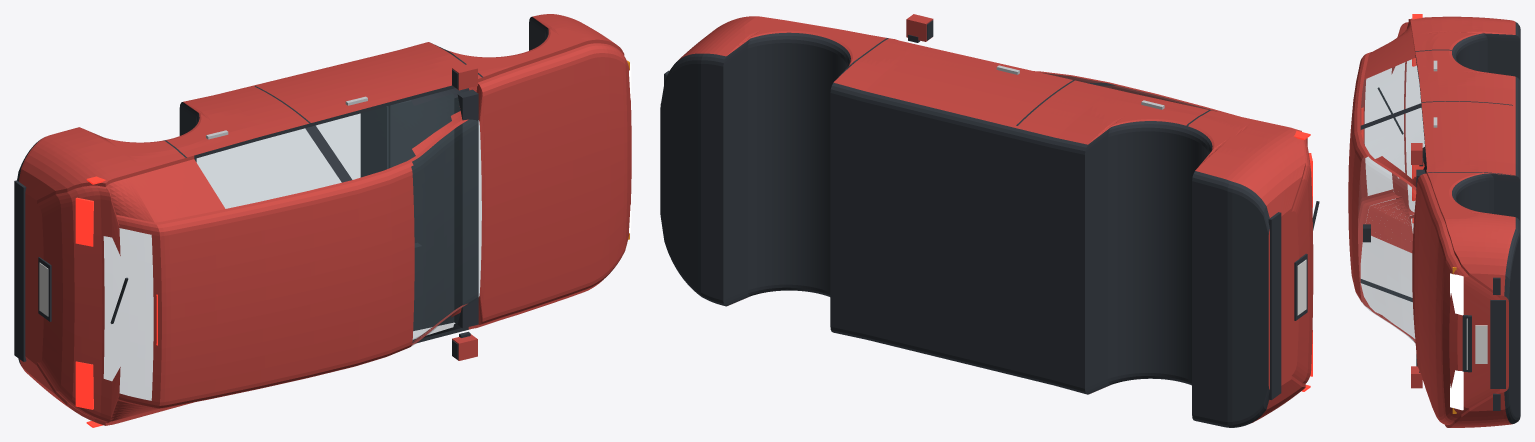
The model's file is vehicle.glb.
3 renders of one model, left to right at view 1: azimuth 30°, elevation 25°; view 2: azimuth 150°, elevation 25°; view 3: azimuth 270°, elevation 25°, orthographic. The views are drawn at different scales.
Parts seen in each view (by area): view 1: body_paint_visual, body_glass_visual, dashboard_visual, firewall_visual, body_black_visual, rear_lower_visual, dashboard_lower_visual, tail_light_left_visual, tail_light_right_visual; view 2: body_black_visual, body_paint_visual, rear_lower_visual; view 3: body_paint_visual, body_glass_visual, body_black_visual, grille_lower_visual, grille_upper_visual, front_plate_visual, headlight_left_visual, headlight_right_visual, mirror_left_visual, mirror_right_visual.
Part boxes in pixels (x1,y1,x2,y2): body_paint_visual: [19, 14, 631, 425]; body_glass_visual: [104, 94, 481, 400]; dashboard_visual: [388, 94, 454, 331]; firewall_visual: [454, 89, 478, 328]; body_black_visual: [17, 17, 548, 364]; rear_lower_visual: [14, 180, 26, 361]; dashboard_lower_visual: [360, 106, 388, 177]; tail_light_left_visual: [75, 197, 93, 246]; tail_light_right_visual: [75, 361, 93, 409]; body_black_visual: [660, 32, 1269, 427]; body_paint_visual: [679, 16, 1313, 422]; rear_lower_visual: [1268, 212, 1281, 399]; body_paint_visual: [1348, 16, 1515, 427]; body_glass_visual: [1358, 58, 1424, 343]; body_black_visual: [1360, 22, 1520, 423]; grille_lower_visual: [1490, 299, 1505, 388]; grille_upper_visual: [1462, 315, 1471, 372]; front_plate_visual: [1475, 325, 1487, 363]; headlight_left_visual: [1450, 273, 1463, 315]; headlight_right_visual: [1450, 370, 1463, 410]; mirror_left_visual: [1411, 143, 1422, 164]; mirror_right_visual: [1411, 366, 1422, 388].
Bounding box in the file's own units: 4.41 × 2.05 × 1.35.
